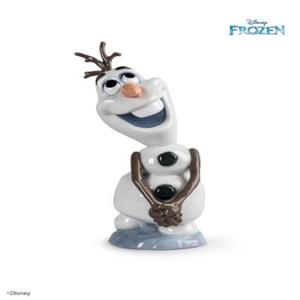olaf: (73, 47, 213, 248)
